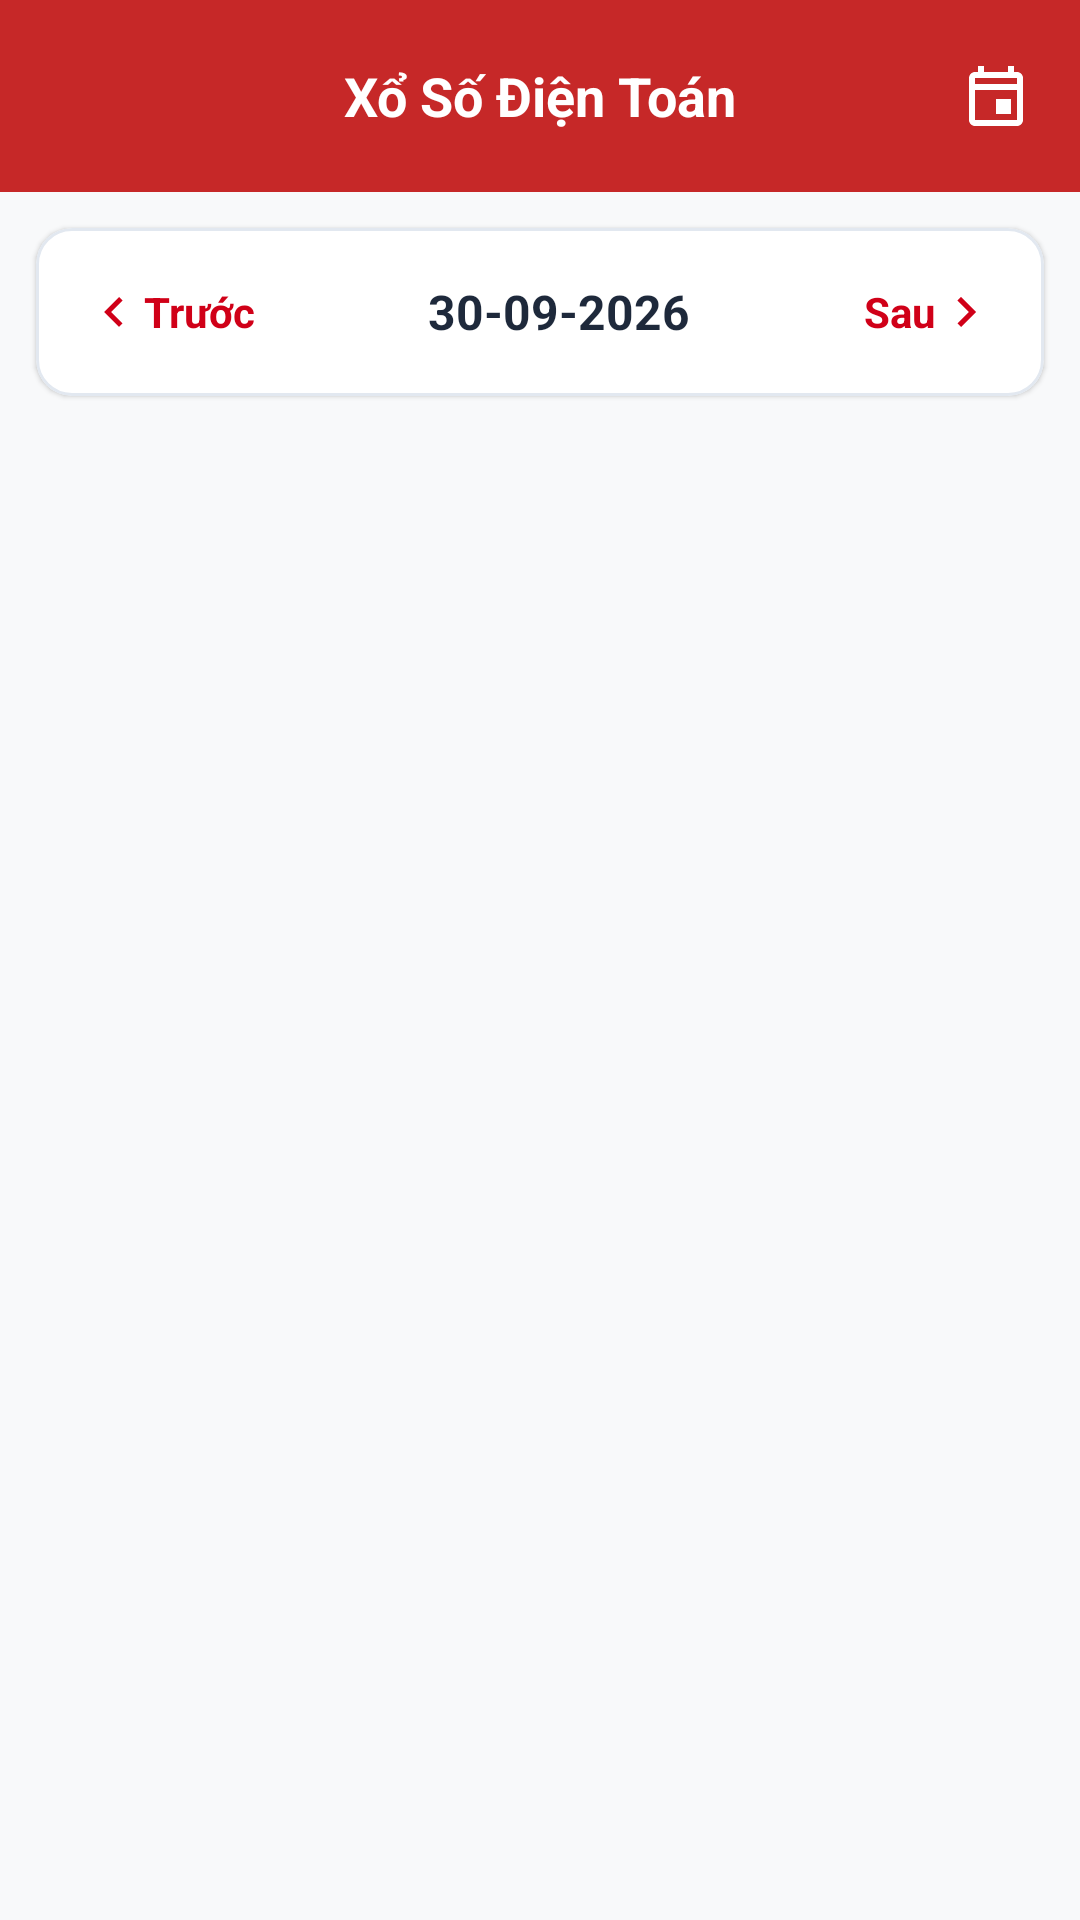

Icons on this 1080*1920 Android screen, each with its box as (x1=x1, y1=y1, x2=x2, y2=y2):
chevron left: (x1=104, y1=297, x2=123, y2=327)
chevron right: (x1=957, y1=297, x2=976, y2=327)
Chọn ngày: (x1=969, y1=66, x2=1023, y2=126)
